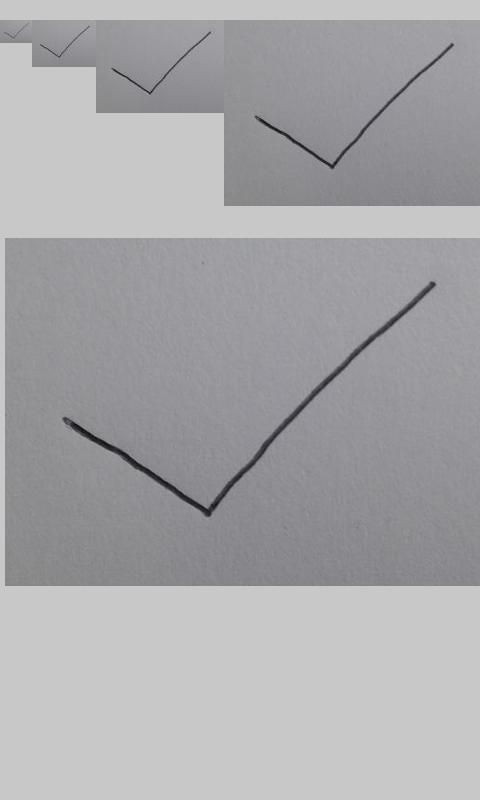check_box: (63, 284, 437, 518), (256, 42, 454, 168), (110, 32, 212, 95), (40, 26, 90, 58), (3, 23, 29, 39)
